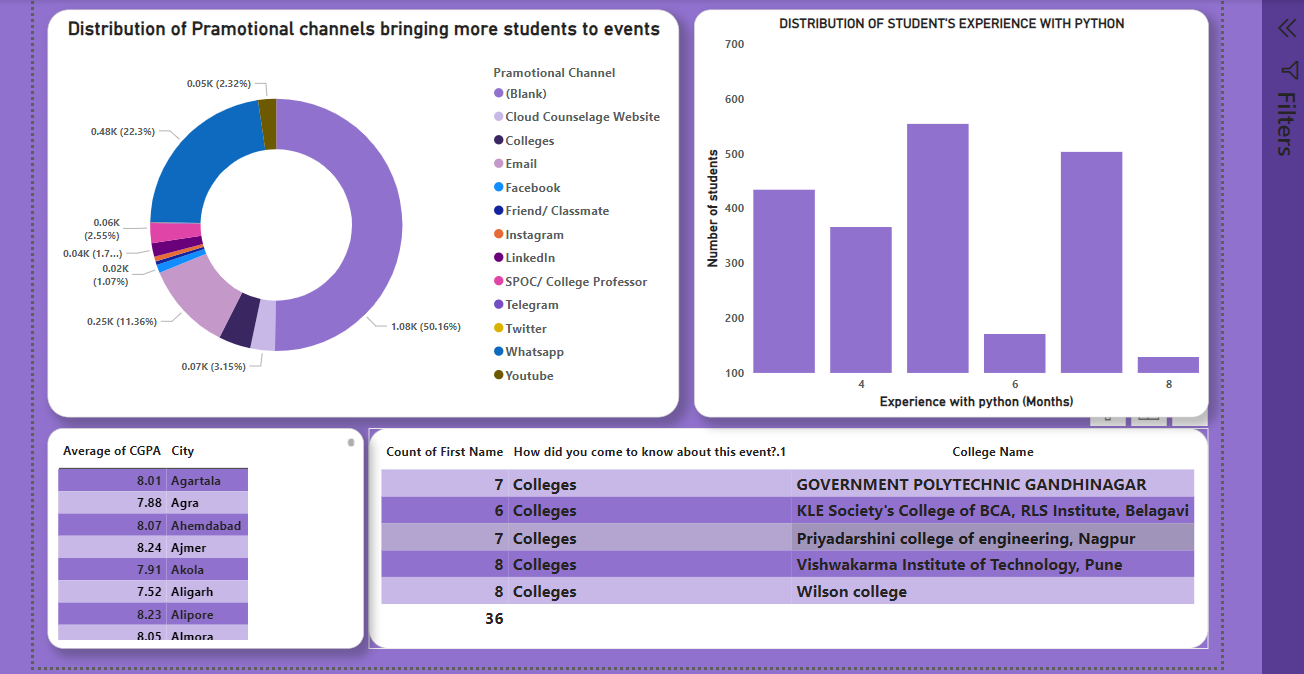

Layout of this report page (visuals, bound fields, positions):
{"tool":"powerbi","page":{"name":"Dashboard 4","canvas":[1280,720],"ordinal":3},"visuals":[{"type":"donutChart","title":"Distribution of Pramotional channels bringing more students to events","fields":{"Series":["All Events Data.How did you come to know about this event?.1"],"Y":["CountNonNull(All Events Data.First Name)"]},"box":[14.6,11.3,681.2,440.1],"z":0},{"type":"tableEx","fields":{"Values":["All Events Data.First Name","All Events Data.How did you come to know about this event?.1","All Events Data.College Name"]},"box":[360.8,462.7,906.1,237.8],"z":1000},{"type":"tableEx","fields":{"Values":["Avg(All Events Data.CGPA)","All Events Data.City"]},"box":[14.6,462.7,341.4,237.8],"z":2000},{"type":"columnChart","title":"DISTRIBUTION OF STUDENT''S EXPERIENCE WITH PYTHON","fields":{"Category":["All Events Data.Experience with python (Months)"],"Y":["CountNonNull(All Events Data.First Name)"]},"box":[711.7,11.7,555,440],"z":3000}]}

Visuals, with their boxes in screenshot pixels (x1, y1, x2, y2):
"Distribution of Pramotional channels bringing more students to events" donutChart: (x1=47, y1=7, x2=675, y2=412)
tableEx - All Events Data.First Name x All Events Data.How did you come to know about this event?.1: (x1=366, y1=423, x2=1201, y2=642)
tableEx - Avg(All Events Data.CGPA) x All Events Data.City: (x1=47, y1=423, x2=362, y2=642)
"DISTRIBUTION OF STUDENT''S EXPERIENCE WITH PYTHON" columnChart: (x1=689, y1=7, x2=1201, y2=413)
